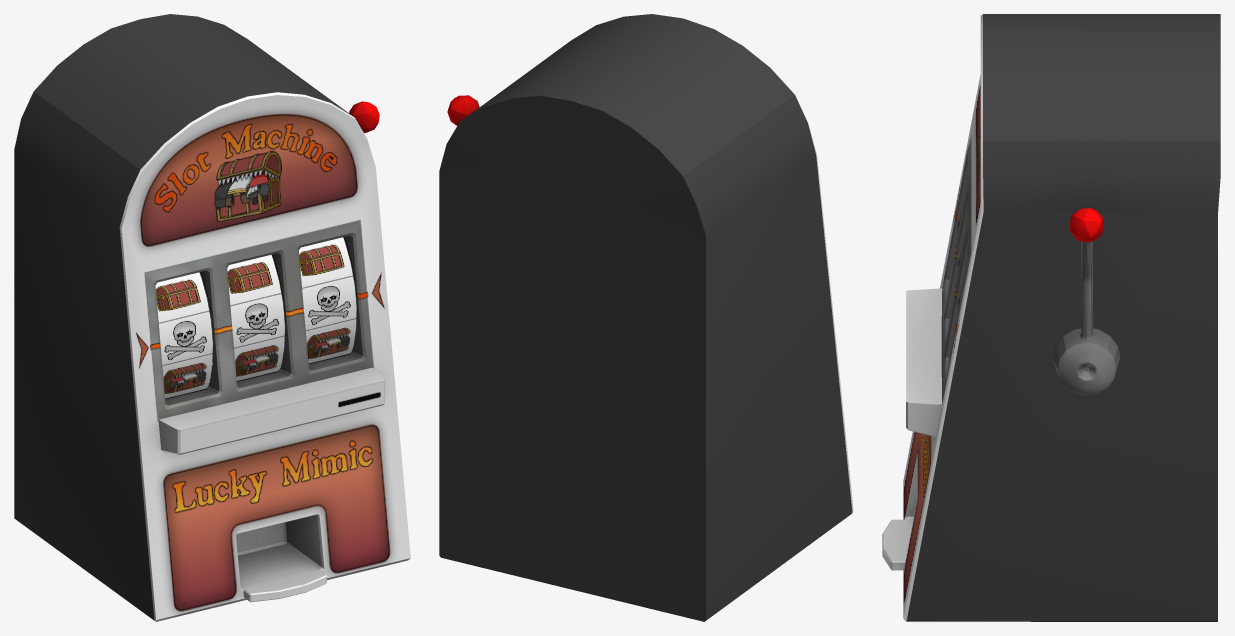
Rendered from SlotMachine.fbx.
3 views of the same model, side by side, from view 1: azimuth 30°, elevation 25°; view 2: azimuth 150°, elevation 25°; view 3: azimuth 270°, elevation 25° (orthographic). The views are drawn at different scales.
Visible parts, largest first — view 1: SlotMachine_Body, SlotMachine_Reel_1, SlotMachine_Reel_2, SlotMachine_Reel_3, SlotMachine_Lever; view 2: SlotMachine_Body, SlotMachine_Lever; view 3: SlotMachine_Body, SlotMachine_Lever.
Boxes of the visible parts, x1,y1,x2,y2 form: SlotMachine_Body: [14, 14, 410, 621]; SlotMachine_Reel_1: [155, 272, 213, 398]; SlotMachine_Reel_2: [227, 254, 285, 380]; SlotMachine_Reel_3: [299, 237, 356, 363]; SlotMachine_Lever: [349, 101, 379, 133]; SlotMachine_Body: [439, 14, 853, 621]; SlotMachine_Lever: [447, 95, 479, 125]; SlotMachine_Body: [882, 14, 1220, 621]; SlotMachine_Lever: [1053, 207, 1120, 395].
Bounding box in the file's own units: 115 × 170 × 99.87.
